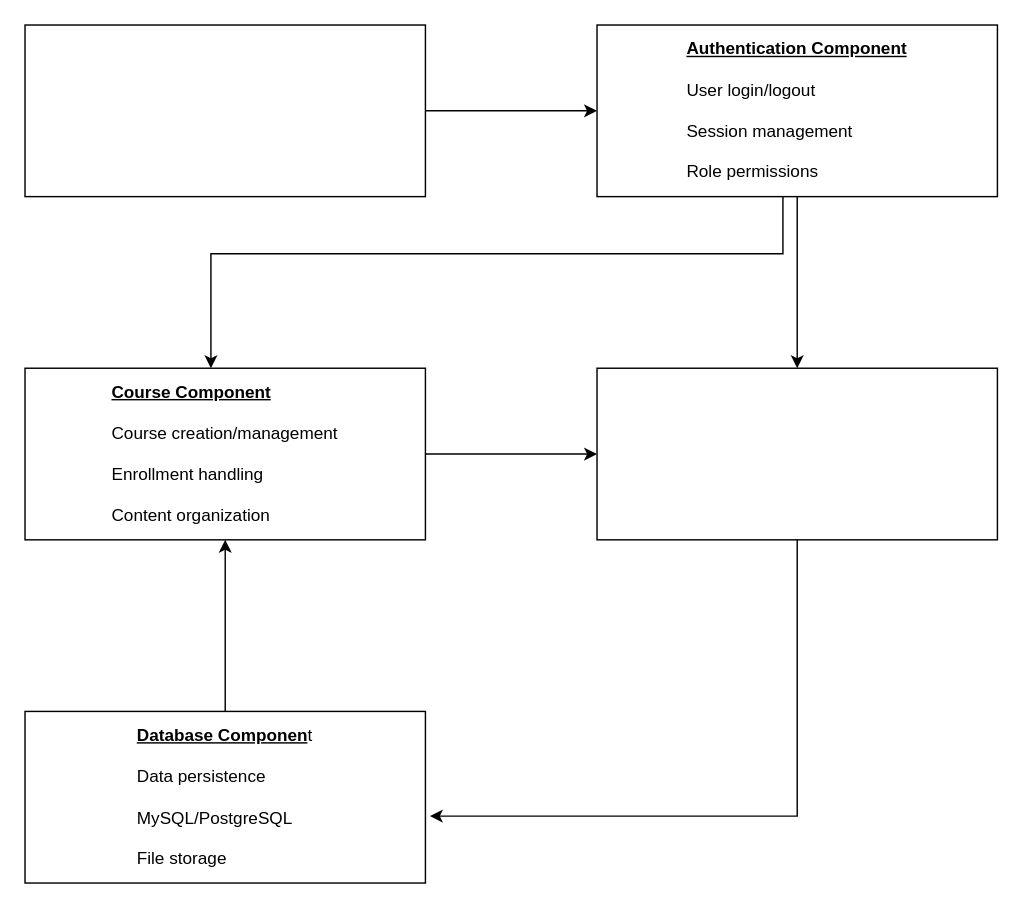
Image size: 1022x908. Some labels were removed from this diagram. The centre of each missing label's shape, as x and y in pixels:
"Assignment Component Assignment creation Submission handling Grading system" goes at point (796, 453).
"Web Interface Component Handles UI rendering User interaction" goes at point (224, 110).
